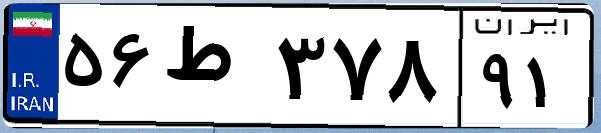1: (525, 38, 570, 115)
3: (270, 28, 330, 110)
5: (57, 26, 110, 100)
6: (110, 28, 158, 98)
7: (330, 28, 385, 110)
8: (385, 28, 445, 110)
9: (475, 38, 525, 113)
ط: (158, 20, 270, 120)
